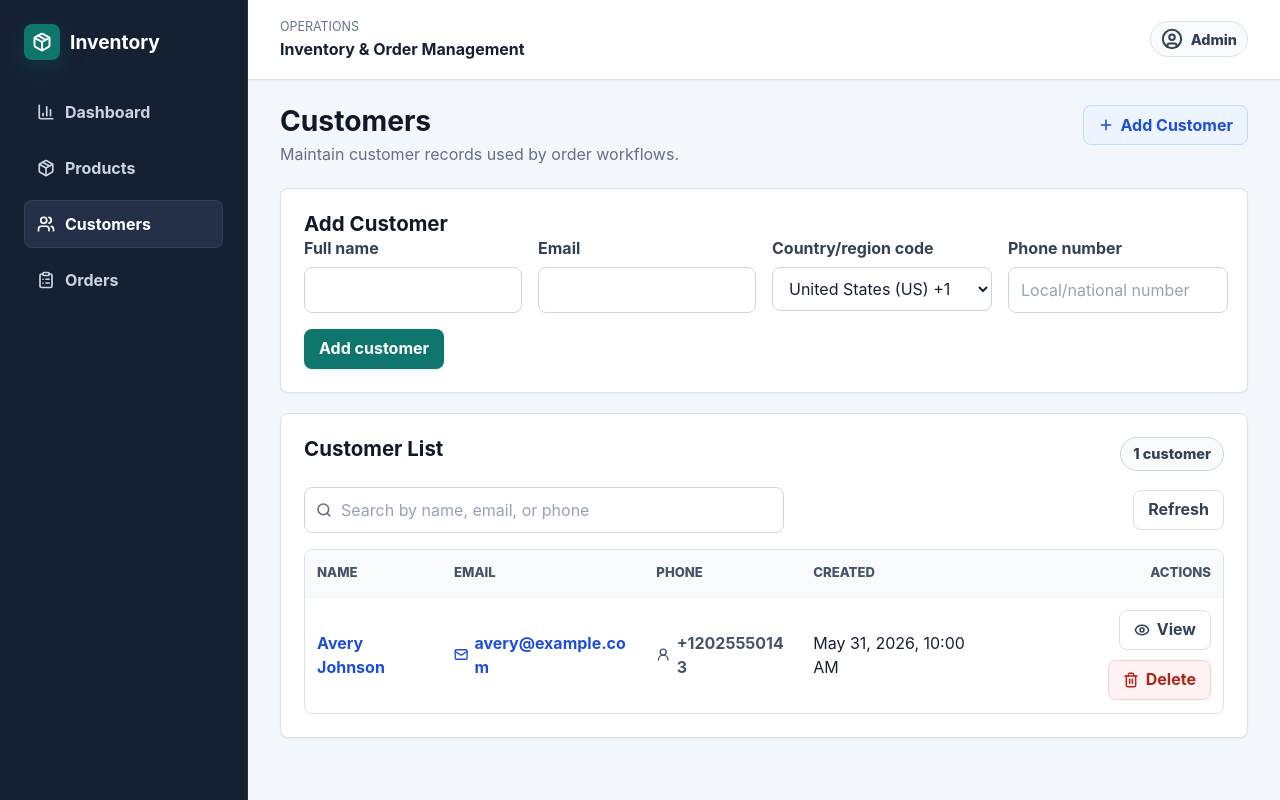
Test: frontend flows › selecting India and entering a national number submits E.164 without requiring plus
In the field labelled "Full name": (413, 290) left=304, top=267, right=522, bottom=313, type "Casey Smith"
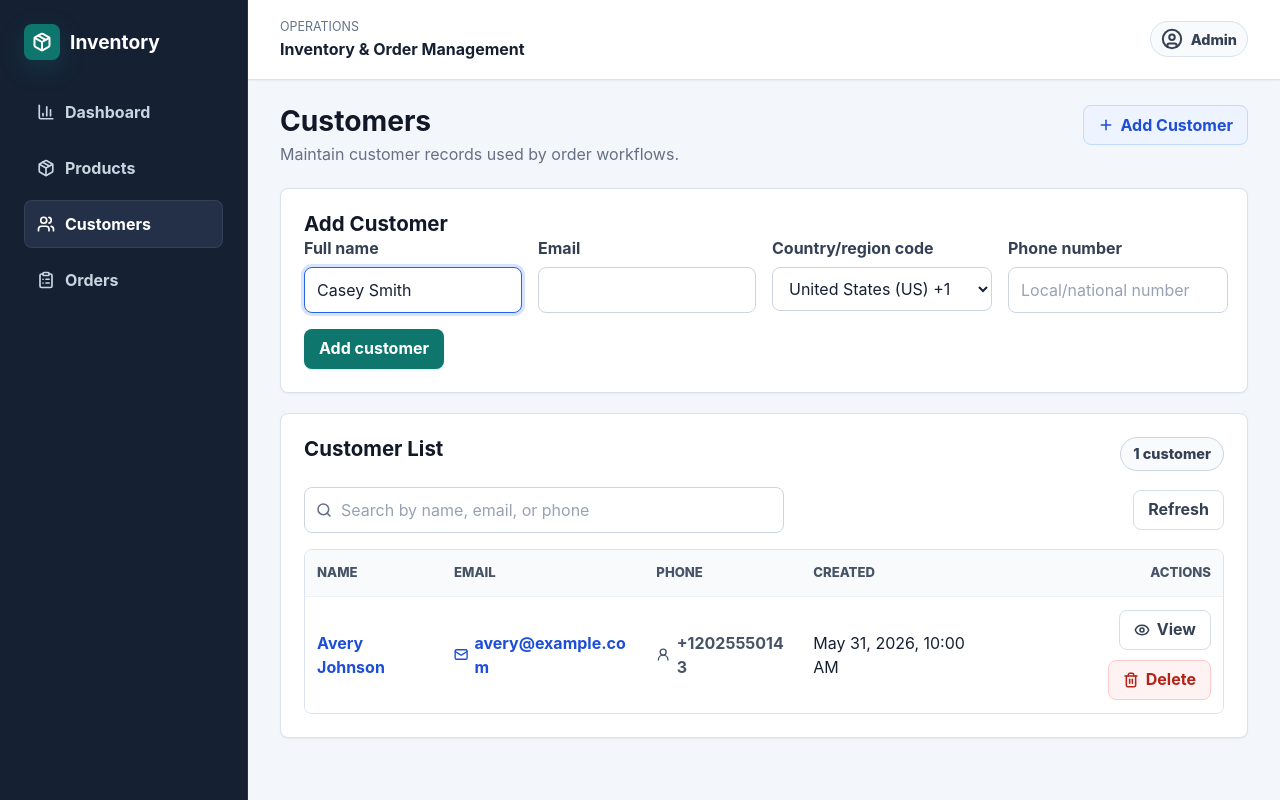
In the field labelled "Email": (647, 290) left=538, top=267, right=756, bottom=313, type "india@example.com"
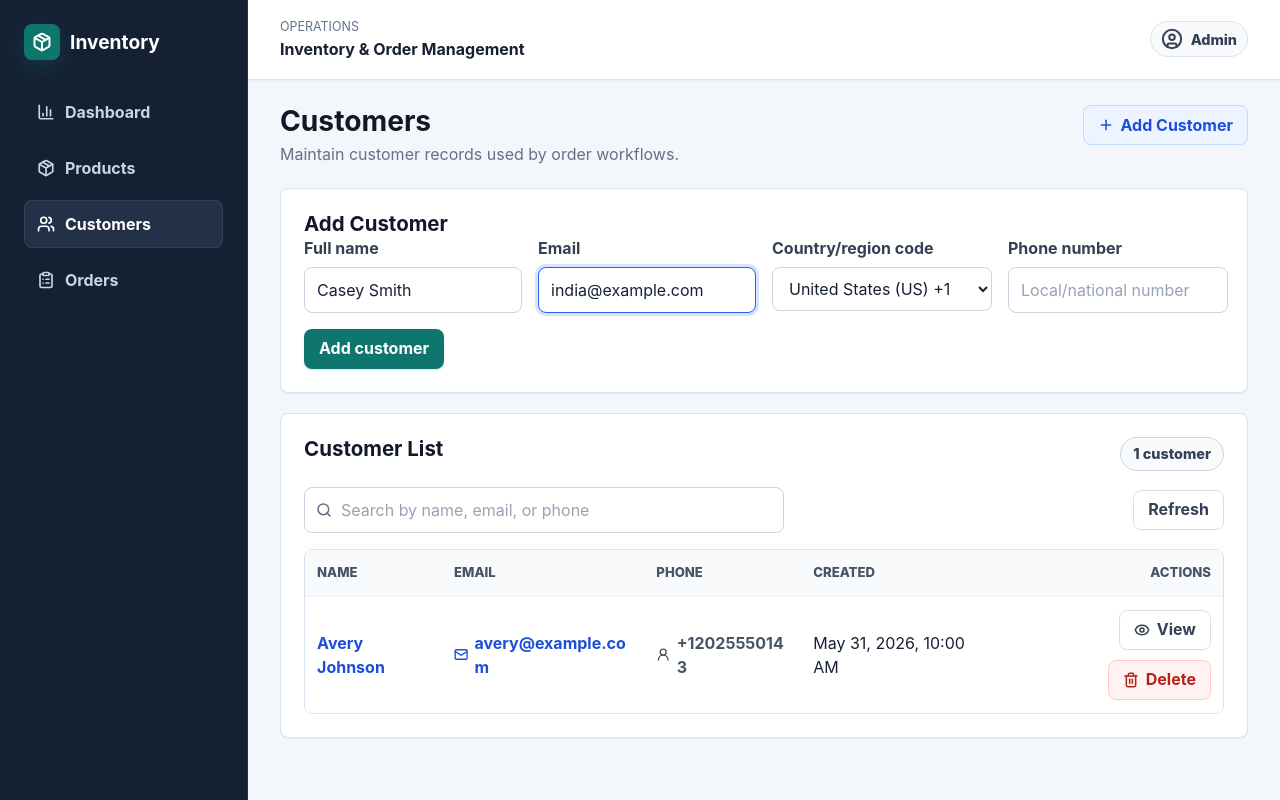
Select "India (IN) +91" in the dropdown labelled "Country/region code": (882, 289) left=772, top=267, right=992, bottom=311
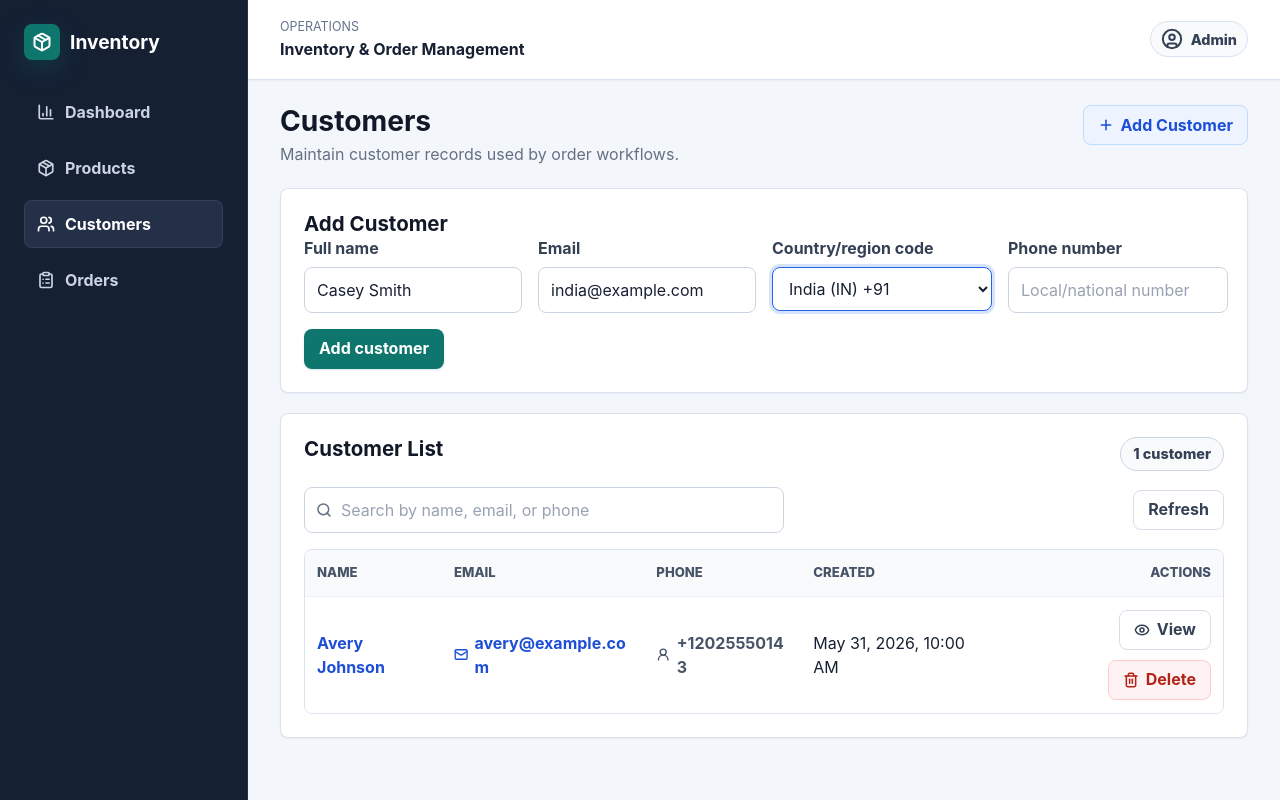
In the field labelled "Phone number": (1118, 290) left=1008, top=267, right=1228, bottom=313, type "9876543210"
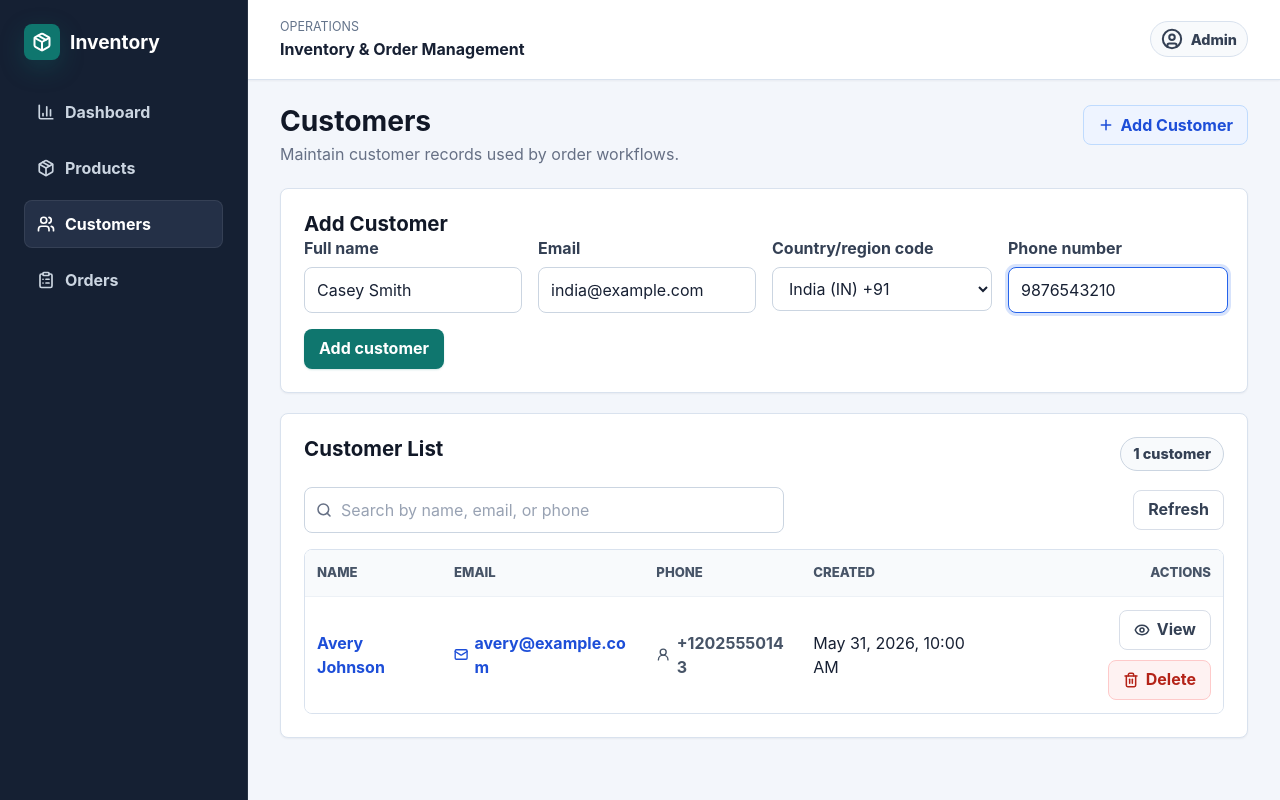
Click the button "Add customer": (374, 349) left=304, top=329, right=444, bottom=369
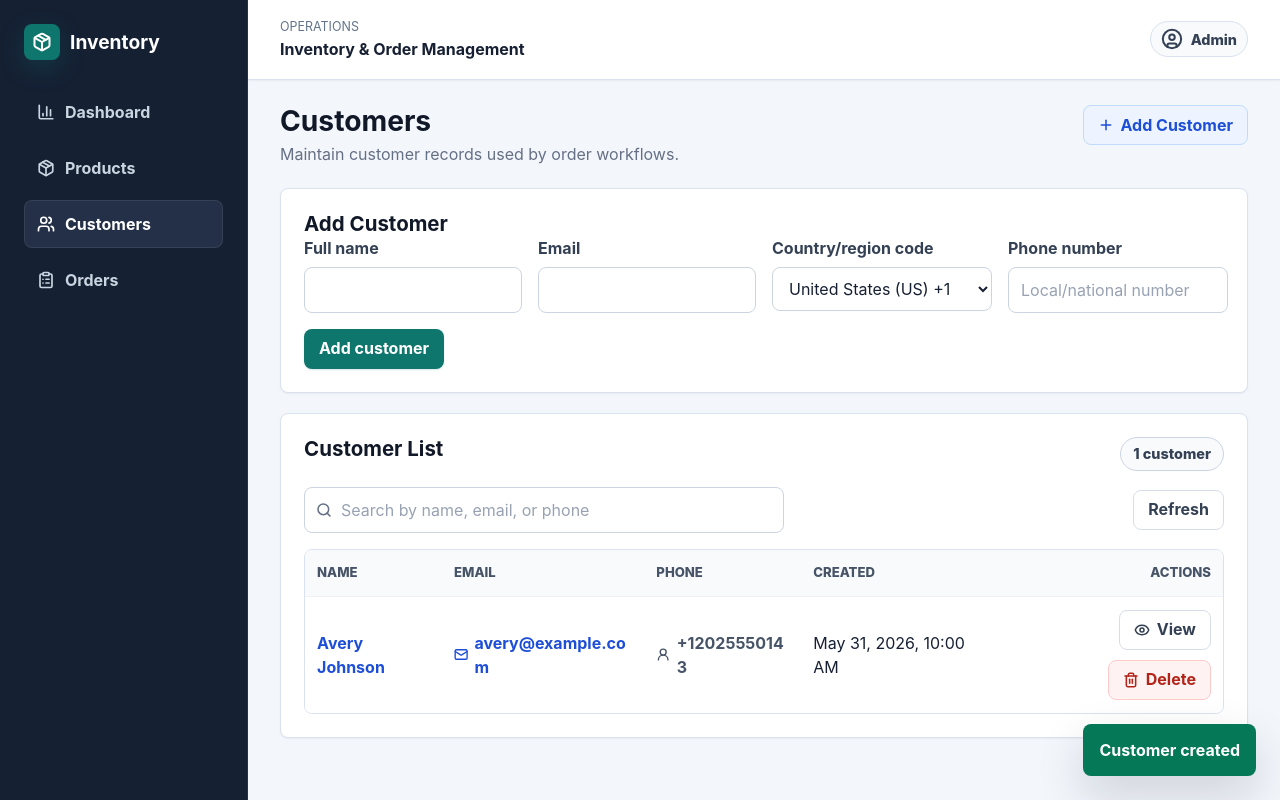
Expected: the message reads "Customer created", left=1100, top=740, right=1240, bottom=760
